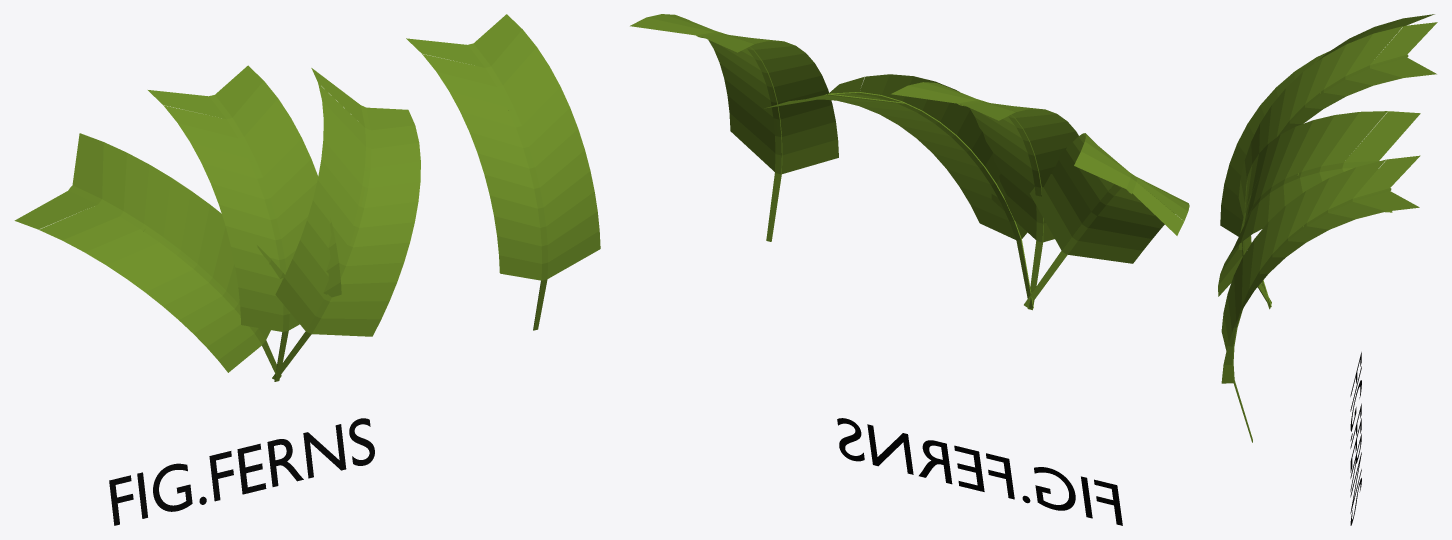
Rendered from Pteridophyta_RushalNandeshwar.gltf.
3 views of the same model, side by side, from view 1: azimuth 30°, elevation 25°; view 2: azimuth 150°, elevation 25°; view 3: azimuth 270°, elevation 25° (orthographic). The views are drawn at different scales.
Parts seen in each view (by area): view 1: Plane.003, Plane.002, Plane.001, Plane, Text; view 2: Plane.003, Plane.002, Plane.001, Plane, Text; view 3: Plane.001, Plane.003, Plane, Plane.002, Text.
Boxes of the visible parts, x1,y1,x2,y2 form: Plane.003: [406, 14, 600, 330]; Plane.002: [14, 133, 284, 377]; Plane.001: [272, 68, 420, 379]; Plane: [148, 65, 341, 381]; Text: [109, 418, 374, 525]; Plane.003: [630, 14, 838, 241]; Plane.002: [1024, 133, 1189, 307]; Plane.001: [764, 74, 1033, 308]; Plane: [891, 82, 1078, 310]; Text: [837, 418, 1122, 525]; Plane.001: [1218, 111, 1420, 304]; Plane.003: [1221, 155, 1420, 442]; Plane: [1238, 22, 1437, 309]; Plane.002: [1220, 14, 1434, 307]; Text: [1350, 352, 1361, 525].
Size of the model in its own units: 5.19 by 3.85 by 1.87.
